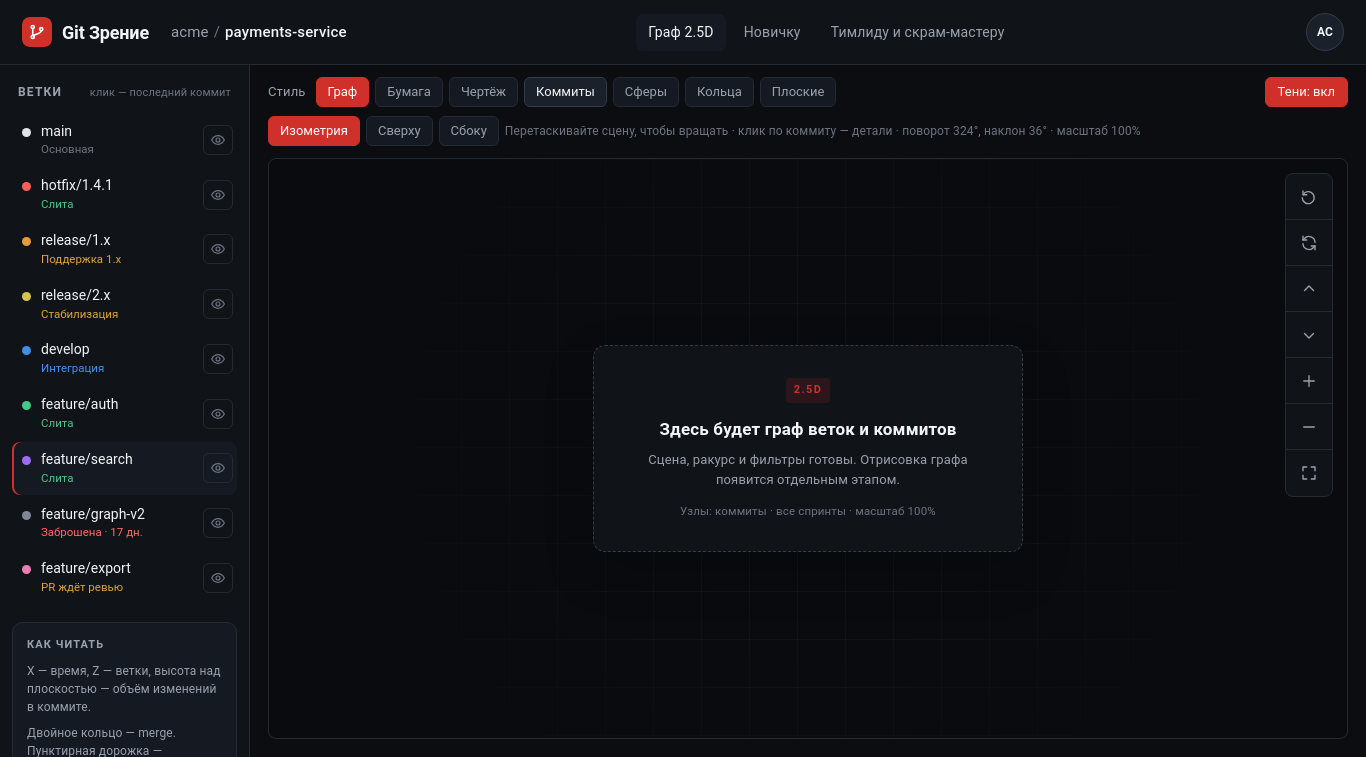
Test: Graph › выбирает и скрывает ветку
Click the button with aria-label "develop, Интеграция" at (106, 359), box [12, 332, 201, 385]
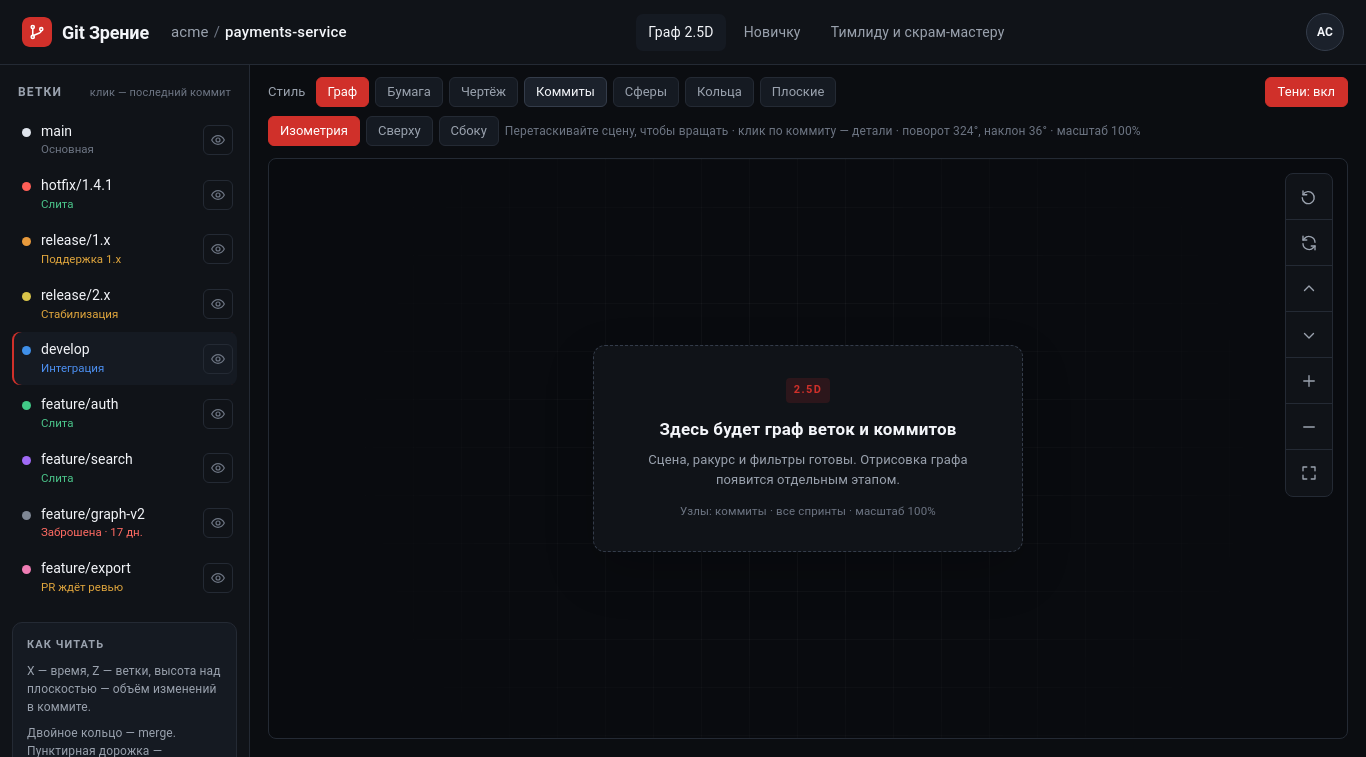
Click the button named "Скрыть ветку develop" at (218, 359), box [203, 344, 233, 374]
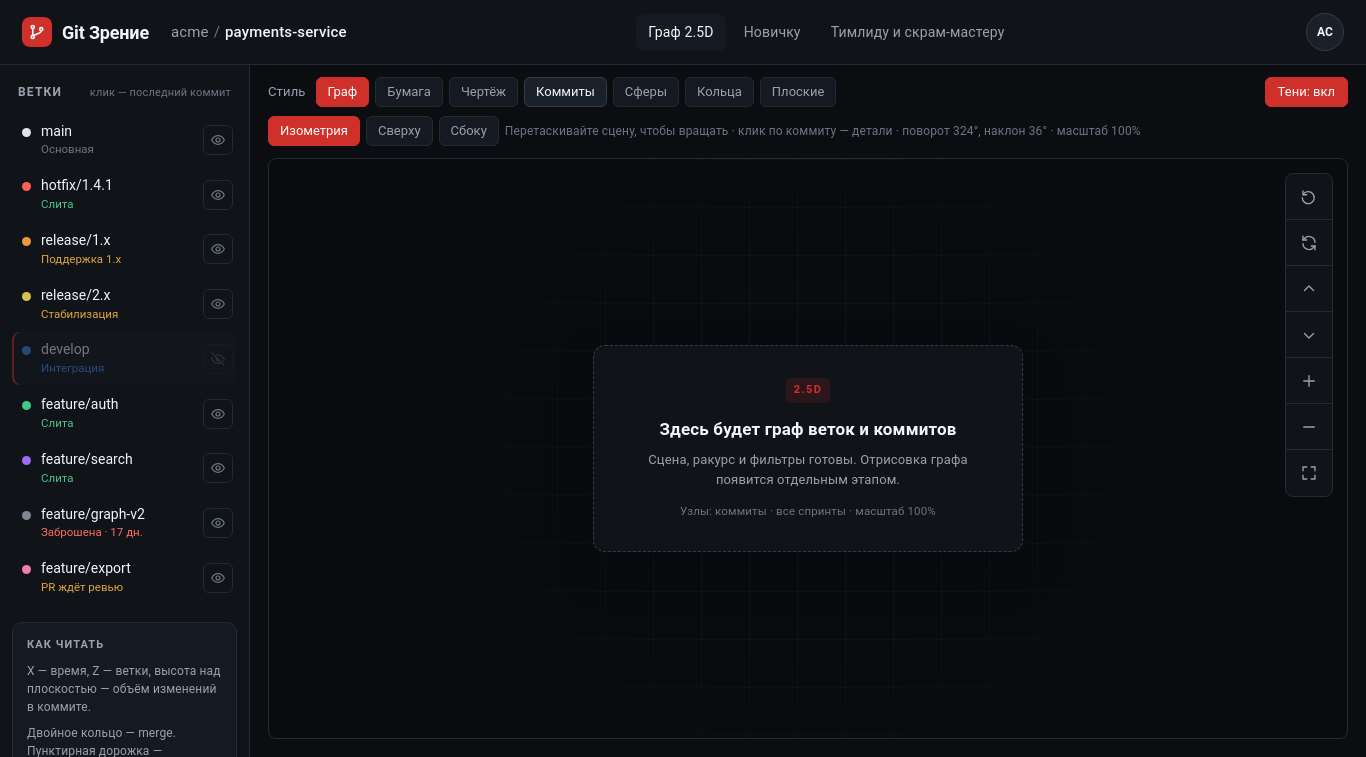
Expected: the button named "Показать ветку develop" is shown
Click the button named "Показать ветку develop" at (218, 359), box [203, 344, 233, 374]
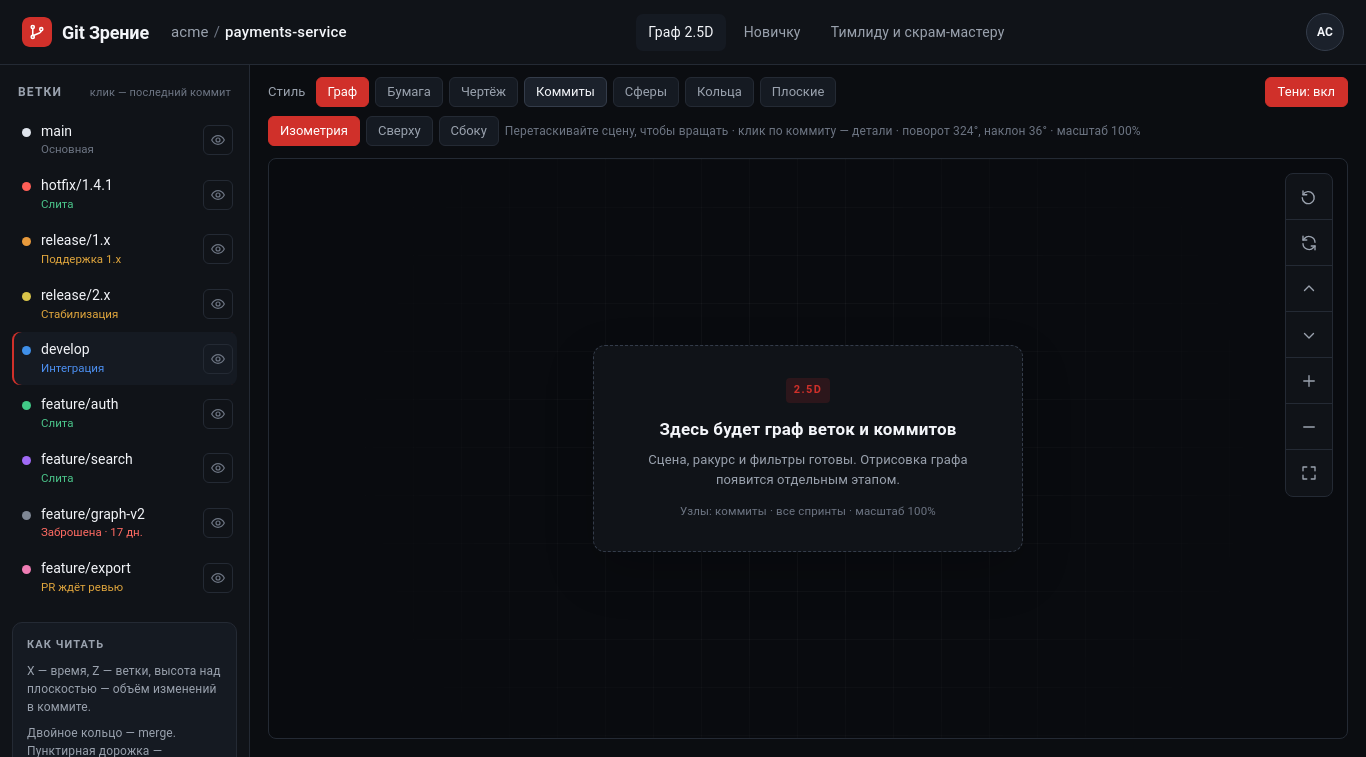
Expected: the button named "Скрыть ветку develop" is shown, [203, 344, 233, 374]
